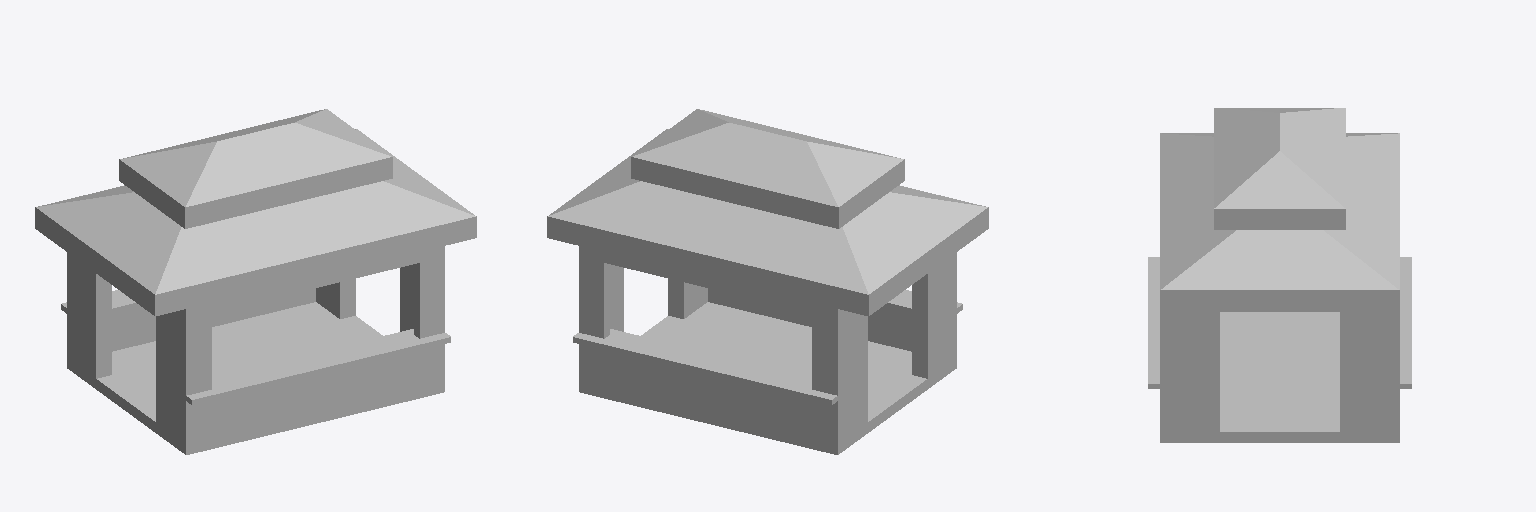
Rendered from bar-tropic_0.obj.
3 views of the same model, side by side, from view 1: azimuth 30°, elevation 25°; view 2: azimuth 150°, elevation 25°; view 3: azimuth 270°, elevation 25° (orthographic).
Visible parts, largest first — view 1: bar-tropic; view 2: bar-tropic; view 3: bar-tropic.
Boxes of the visible parts, box(x1,y1,x2,y2) form: bar-tropic: box(35, 109, 476, 454); bar-tropic: box(547, 109, 988, 454); bar-tropic: box(1148, 108, 1411, 442).
Size of the model in its own units: 6.2 by 4.57 by 4.4.